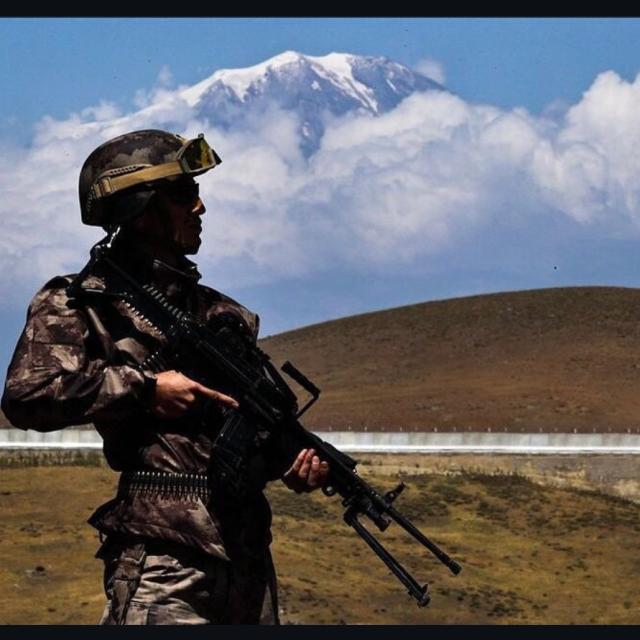poh_personel: (5, 127, 337, 640)
